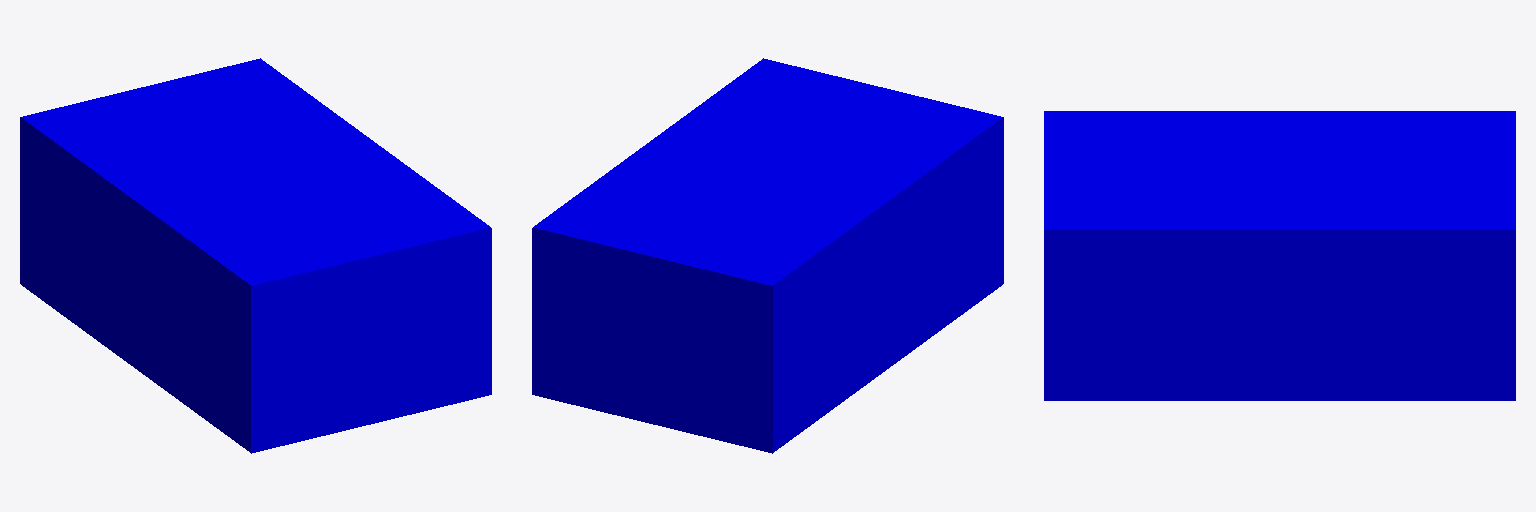
The robot description file, URDF, robot "cubeDE6":
<?xml version="1.0"?>
<robot name="cubeDE6">
	<link name="base">
	<inertial>
        	 <origin xyz="0 0 0" rpy="0 0 0"/>
        	 <mass value="0.5"/>
        	 <inertia ixx="0.000683333"  ixy="0"  ixz="0" iyy="0.000683333" iyz="0" izz="0.000683333" />
       </inertial>
		<visual>
			<origin xyz="0 0 0" rpy="0 0 0" />
			<geometry>
				<box size="0.03 0.05 0.02" />
			</geometry>
			<material>
				<color rgba="0 0 1 1" />
			</material>
		</visual>
		<collision>
			<origin xyz="0 0 0" rpy="0 0 0" />
			<material>
				<color rgba="0 0 1 1" />
			</material>
			<geometry>
				<box size="0.03 0.05 0.02" />
			</geometry>
			
		</collision>
		
	</link>
</robot>

--- Render facts (derived) ---
The picture shows the robot from 3 angles, left to right: view 1: azimuth 30°, elevation 25°; view 2: azimuth 150°, elevation 25°; view 3: azimuth 270°, elevation 25°; orthographic projection.
Model cubeDE6 with 1 links and 0 joints (none), rooted at base, posed all joints at 0.
Links seen in each view (by area): view 1: base; view 2: base; view 3: base.
Boxes of the visible links, x1=… form: base: x1=20, y1=58, x2=491, y2=453; base: x1=532, y1=58, x2=1003, y2=453; base: x1=1044, y1=111, x2=1515, y2=400.
Size in the robot's own frame: 0.03 by 0.05 by 0.02 metres.
Geometry: primitives only (box / cylinder / sphere), no mesh files.
